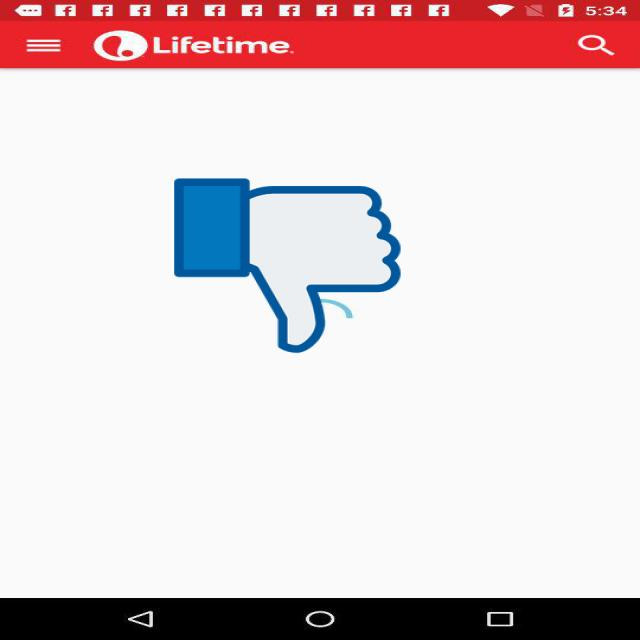obstruction: (174, 175, 401, 356)
